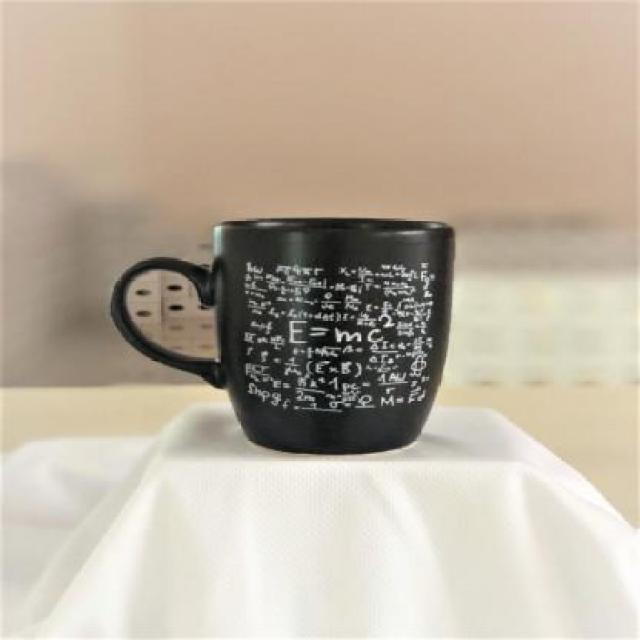taza: (108, 216, 457, 458)
